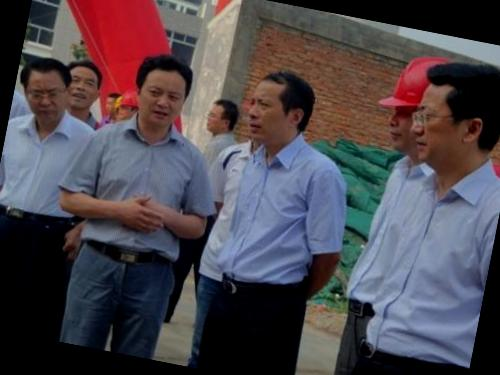no_helmet: (401, 48, 500, 185), (241, 63, 323, 154), (124, 48, 200, 138), (16, 52, 80, 125), (59, 57, 108, 113), (202, 93, 246, 139)
